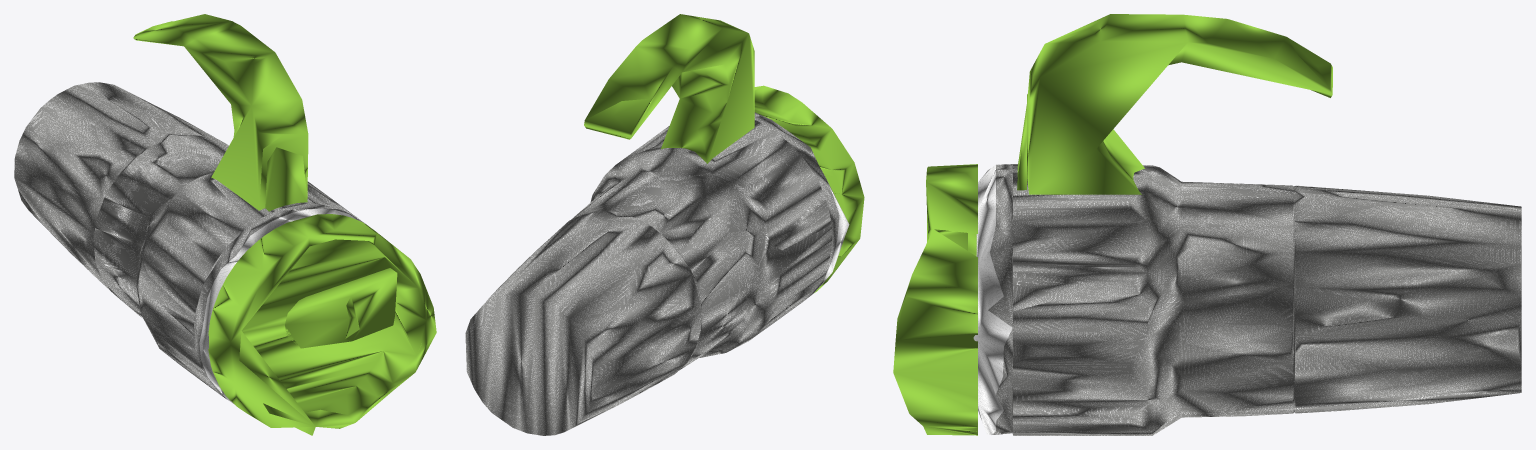
File: model_align.obj
The picture shows the model from 3 angles, left to right: view 1: azimuth 30°, elevation 25°; view 2: azimuth 150°, elevation 25°; view 3: azimuth 270°, elevation 25°; orthographic projection. The views are drawn at different scales.
Bounding box in the file's own units: 0.0605 × 0.0957 × 0.1382.
